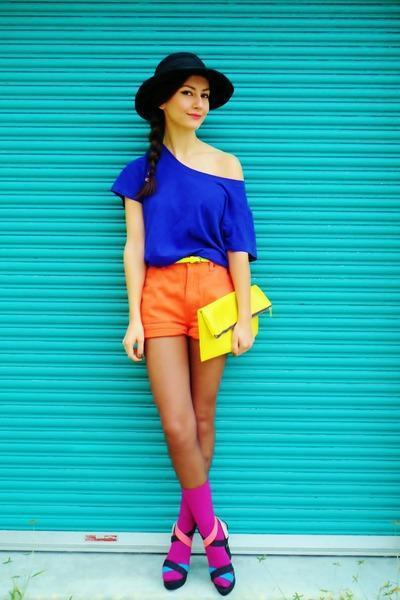bag: (195, 289, 272, 360)
hat: (135, 52, 233, 117)
shirt: (113, 156, 256, 267)
shoe: (163, 559, 234, 595)
shorts: (140, 256, 239, 347)
